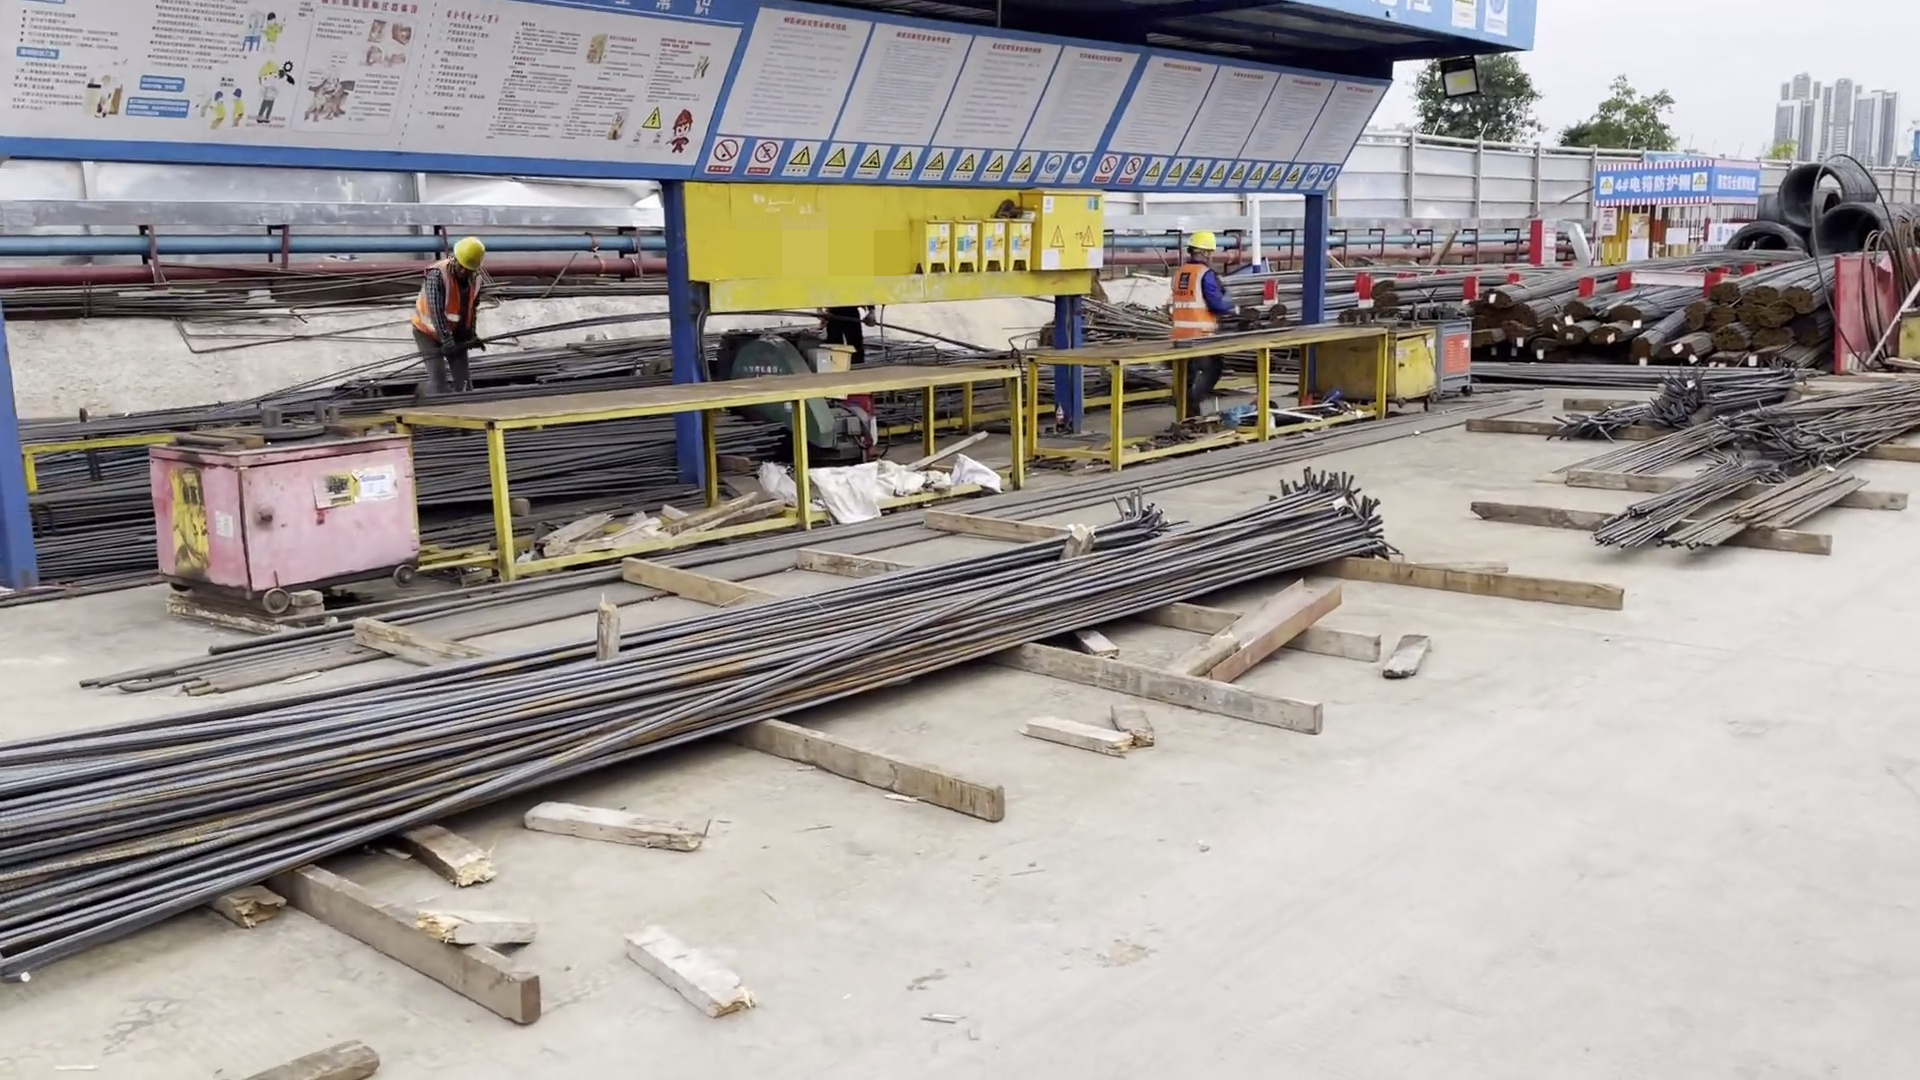ebox: (1017, 179, 1107, 279)
helmet: (455, 237, 486, 265), (1189, 230, 1215, 254)
person: (406, 231, 495, 393), (1160, 231, 1237, 335)
rebar: (1, 438, 1395, 985), (36, 361, 689, 587), (1477, 245, 1808, 309), (1589, 460, 1758, 550), (1710, 395, 1920, 465), (1374, 274, 1515, 312), (1364, 265, 1525, 298), (1709, 257, 1803, 300), (1639, 283, 1732, 322), (1570, 279, 1650, 317), (1637, 304, 1693, 356), (1516, 283, 1577, 327), (1756, 261, 1820, 299), (1787, 265, 1844, 303), (1668, 328, 1715, 366), (1758, 299, 1799, 331), (1587, 323, 1635, 349), (1776, 344, 1815, 374), (1792, 312, 1825, 347), (1553, 322, 1590, 349), (1715, 321, 1753, 348), (1494, 326, 1536, 348), (1527, 337, 1557, 362), (1735, 304, 1760, 328)
vest: (413, 264, 484, 345), (1171, 264, 1227, 337)
